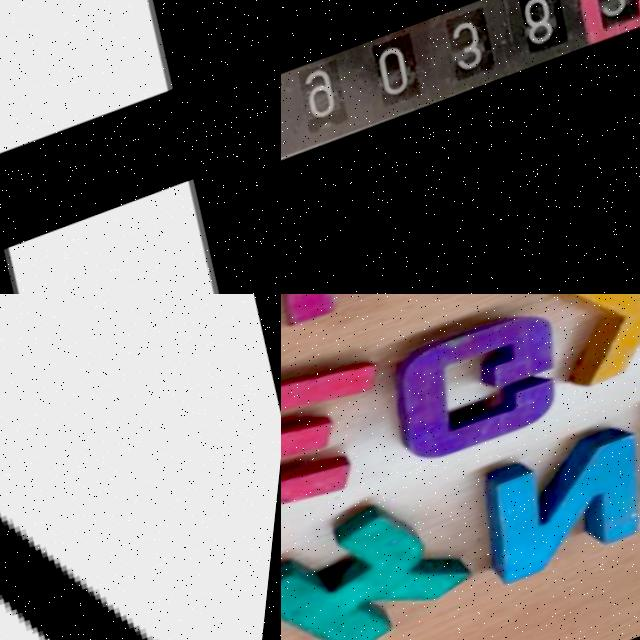0: (374, 46, 427, 108)
3: (446, 19, 501, 83), (591, 0, 640, 33)
8: (516, 0, 573, 61)
9: (301, 65, 356, 129)
E: (281, 333, 410, 540)
G: (352, 294, 606, 489)
H: (0, 0, 281, 294)
K: (281, 478, 504, 640)
N: (471, 419, 640, 598)
X: (544, 294, 640, 402)
Y: (0, 294, 234, 640)
